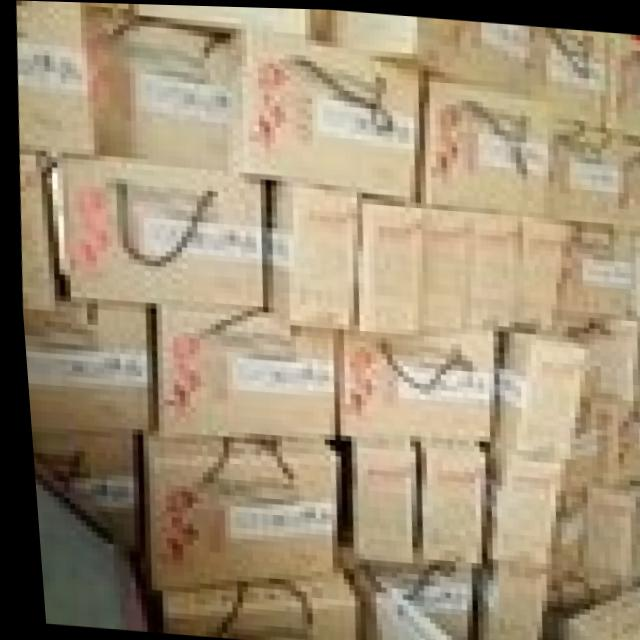box: (226, 32, 423, 200), (55, 157, 264, 301), (136, 434, 329, 589), (152, 303, 329, 436), (423, 74, 552, 216), (334, 328, 489, 440), (135, 25, 230, 170), (148, 572, 346, 640), (264, 180, 354, 328), (16, 0, 97, 160), (25, 436, 132, 551), (20, 335, 147, 431), (489, 328, 584, 456), (479, 439, 558, 566), (355, 196, 423, 333), (340, 434, 409, 566), (524, 23, 609, 130), (331, 8, 460, 76), (409, 439, 478, 561), (551, 120, 626, 227), (509, 219, 568, 327), (419, 206, 471, 328), (463, 561, 543, 640), (128, 3, 331, 34), (455, 18, 529, 92), (467, 210, 514, 326), (557, 584, 640, 640), (604, 34, 640, 136), (615, 136, 640, 225)
